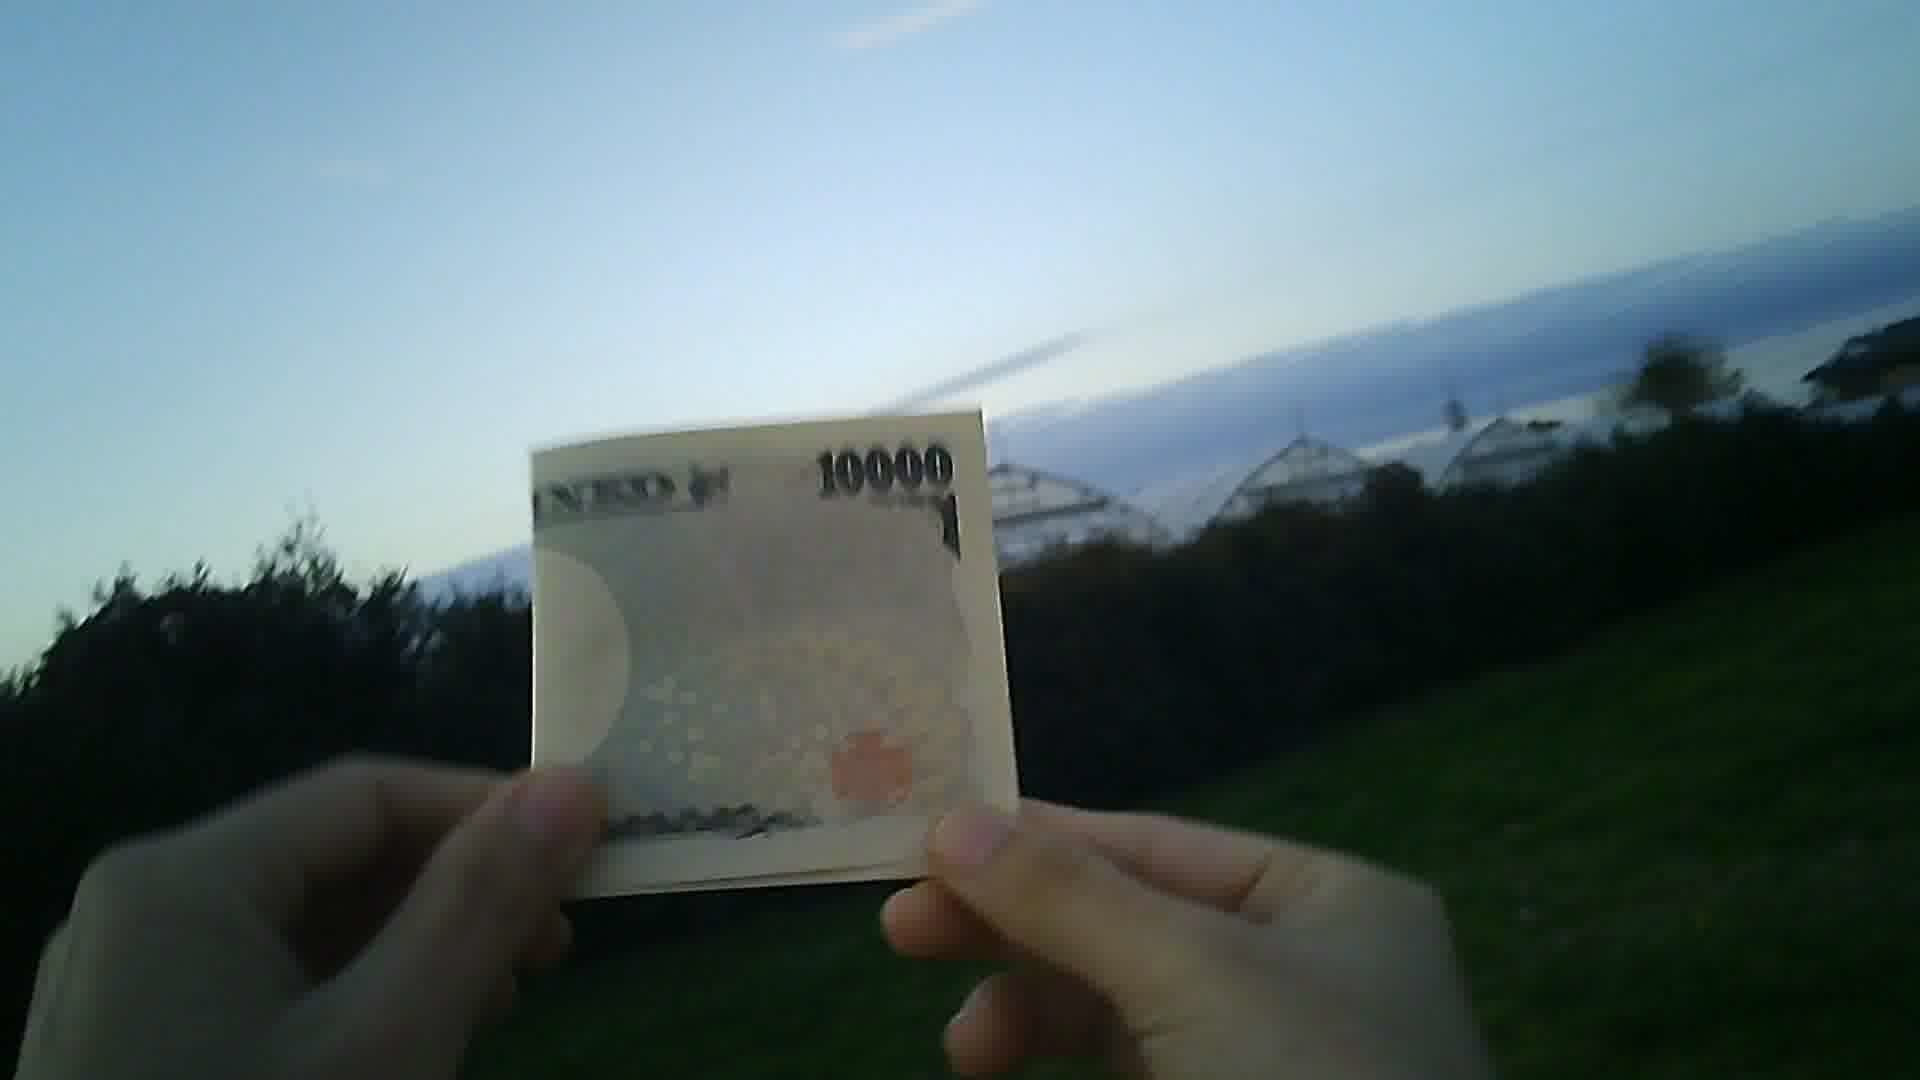10,000 Yen: (505, 415, 1038, 913)
